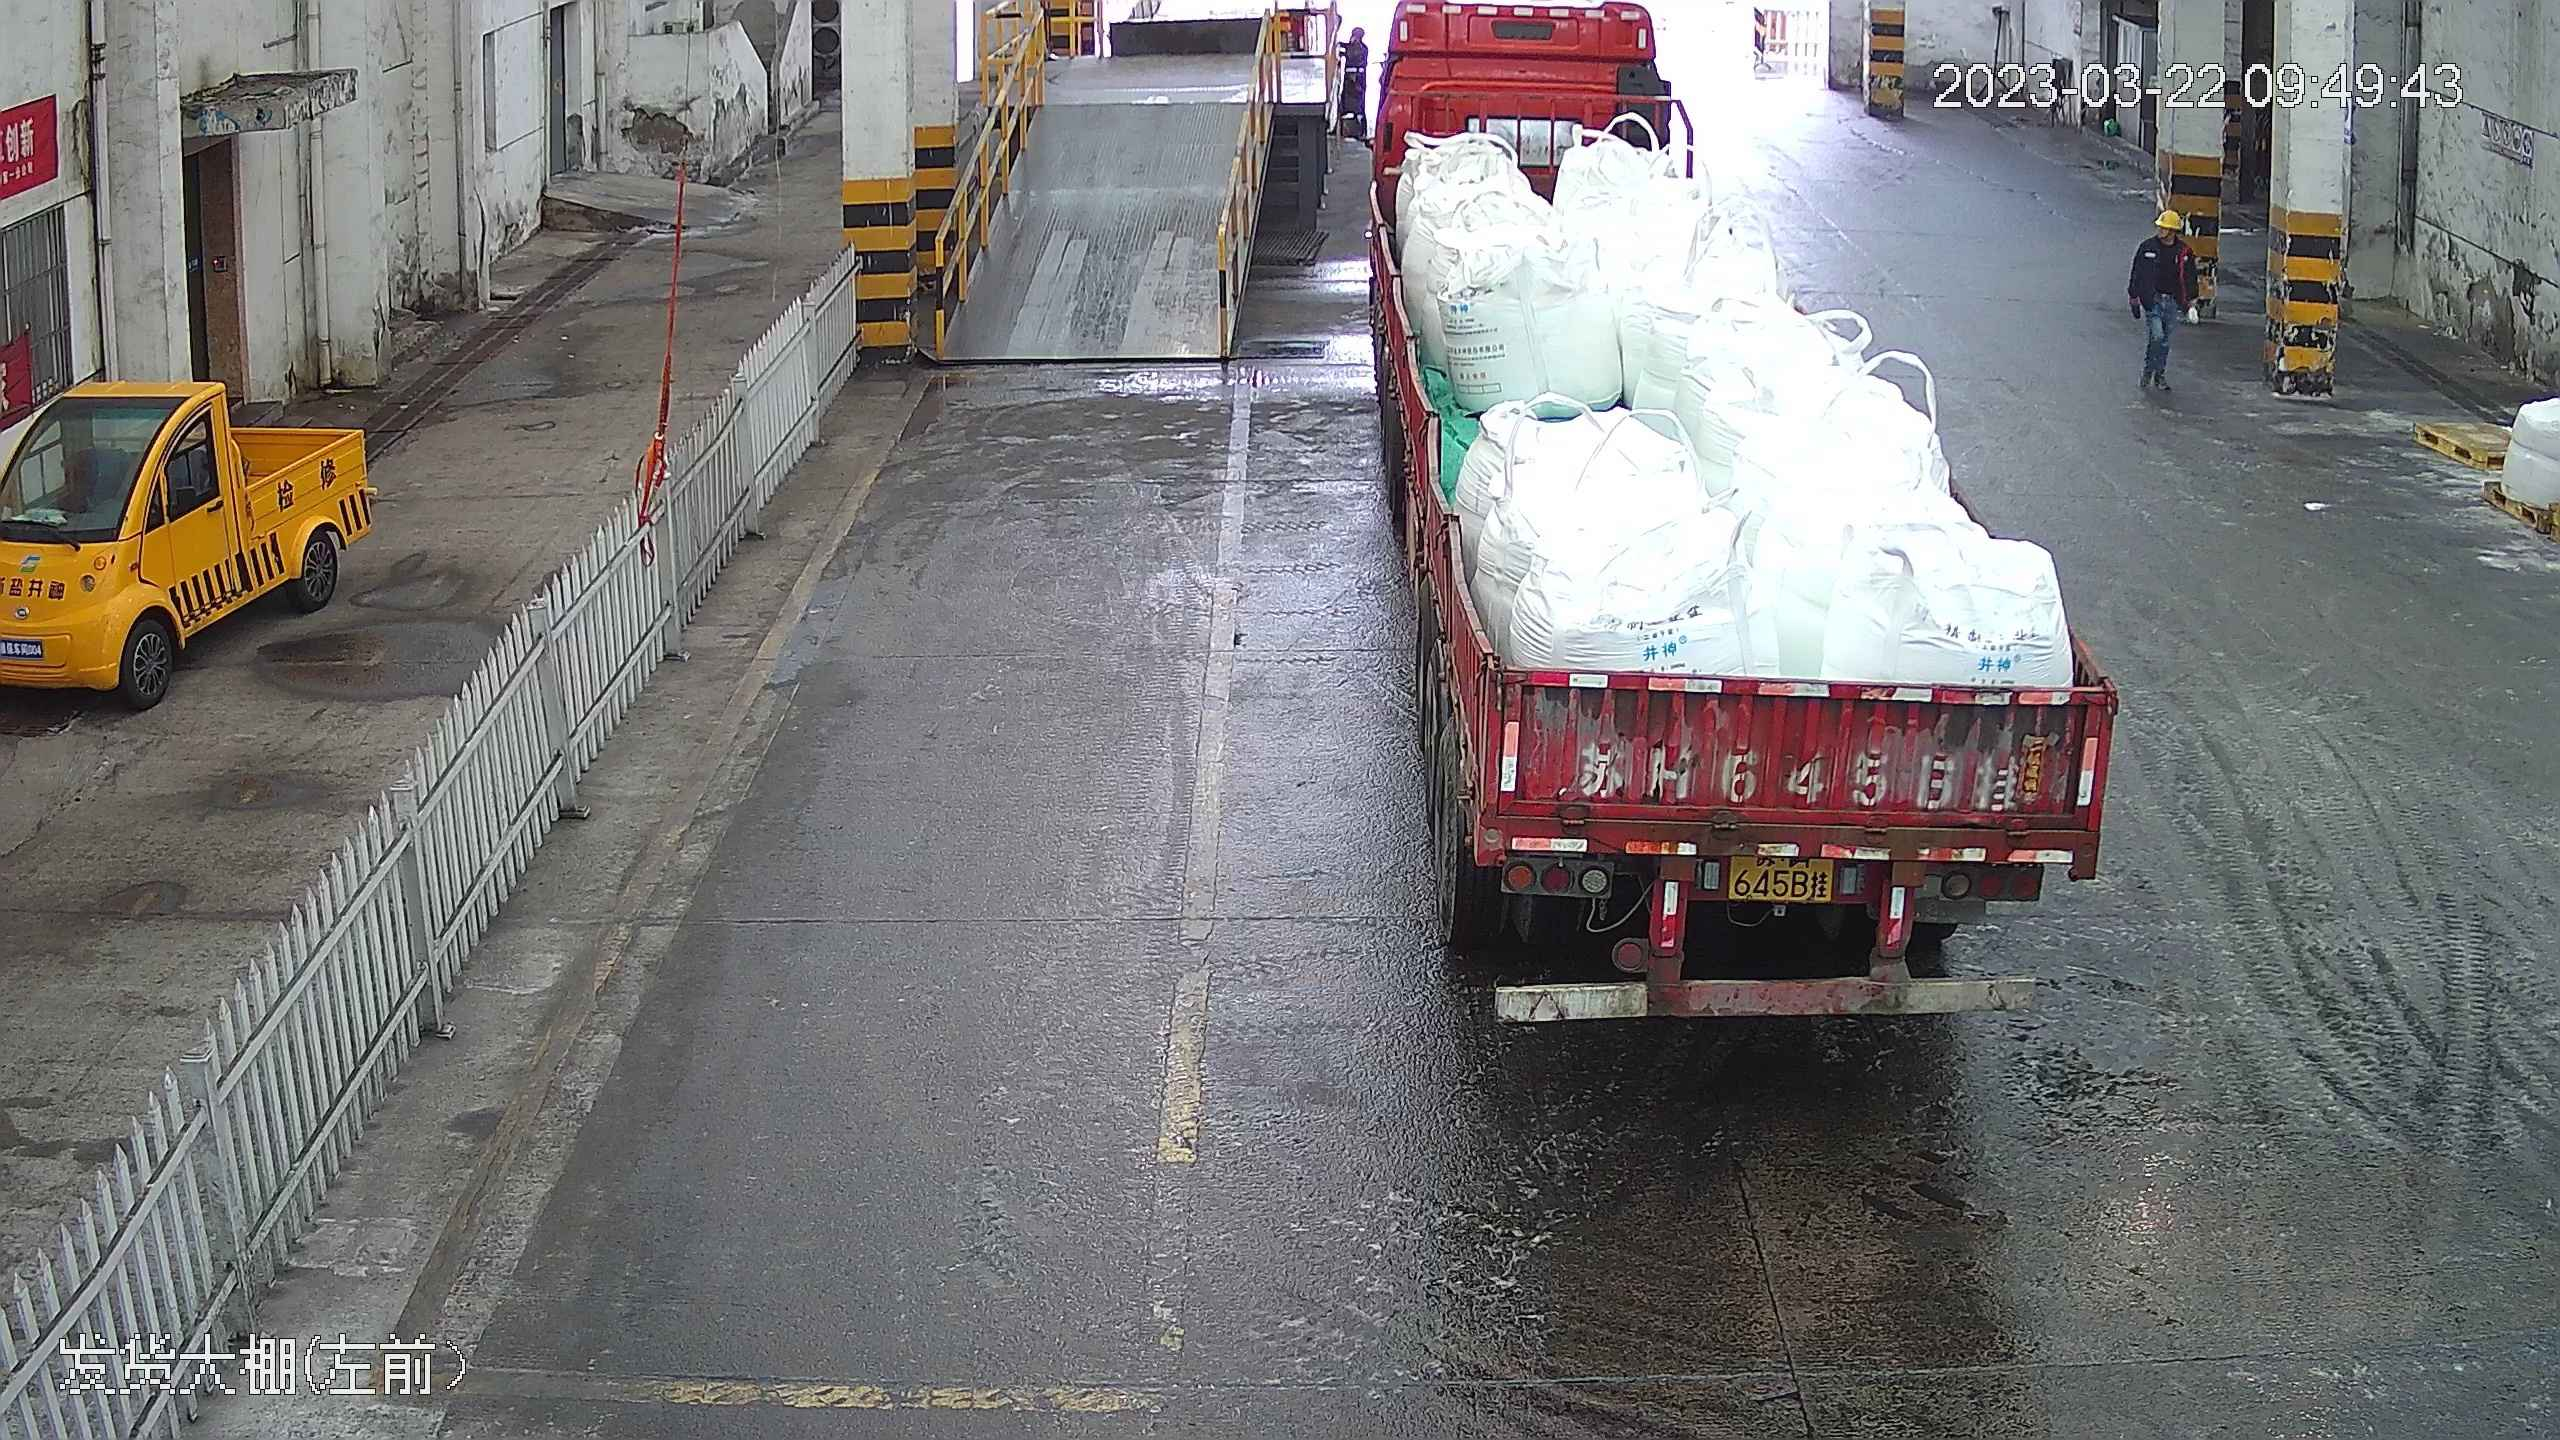head: (2134, 207, 2189, 264)
helmet: (2156, 207, 2184, 229)
people: (2127, 209, 2201, 407)
truck: (1342, 2, 2111, 1010)
